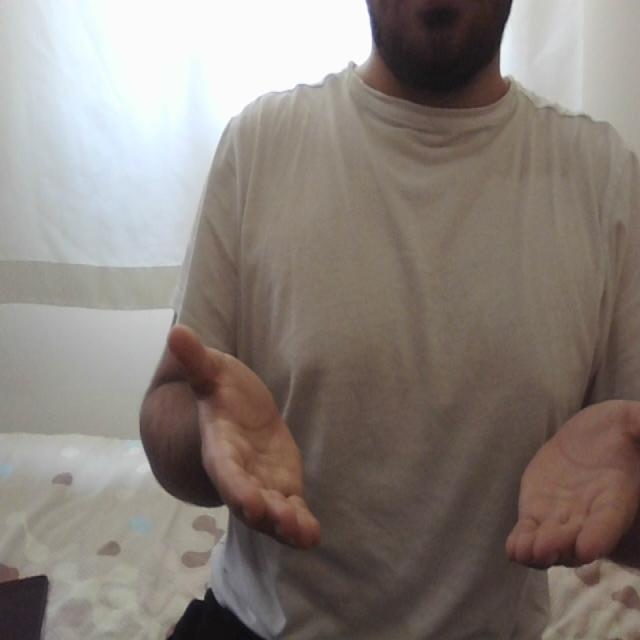Evet: (161, 320, 640, 574)
